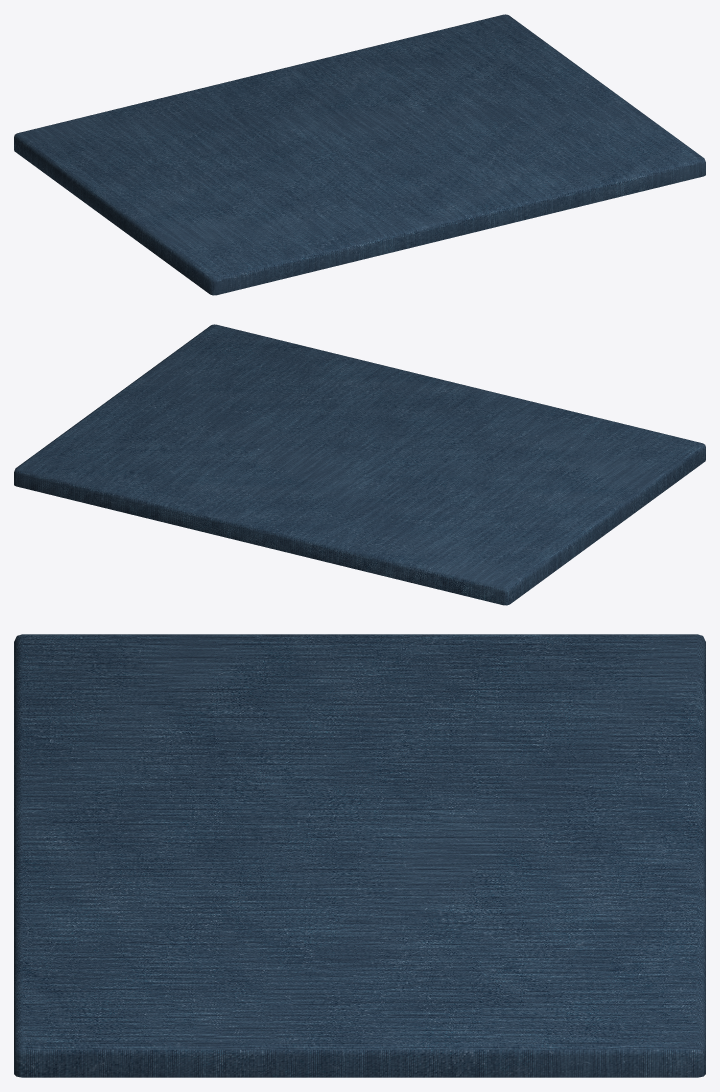
The model's file is MeditationSheet02.glb.
3 views of the same model, one above another, from view 1: azimuth 30°, elevation 25°; view 2: azimuth 150°, elevation 25°; view 3: azimuth 270°, elevation 25° (orthographic). The views are drawn at different scales.
Parts seen in each view (by area): view 1: MeditationSheet_mesh; view 2: MeditationSheet_mesh; view 3: MeditationSheet_mesh.
Part boxes in pixels (<box>): MeditationSheet_mesh: <box>14,14,705,295</box>; MeditationSheet_mesh: <box>14,324,705,605</box>; MeditationSheet_mesh: <box>14,634,705,1077</box>.
Bounding box in the file's own units: 2.27 × 0.0744 × 1.59.
Materials: 1 (1 with a texture image).
